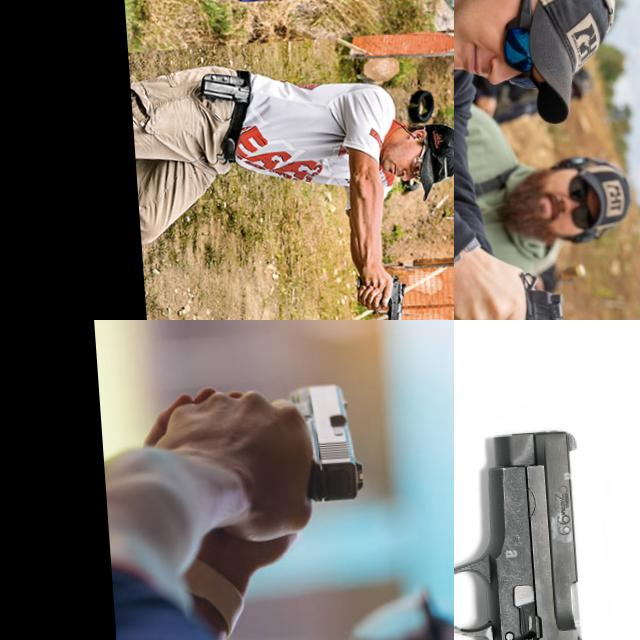handgun: (454, 422, 612, 640), (282, 378, 368, 508), (504, 264, 590, 320), (373, 273, 411, 320), (302, 0, 368, 23)
